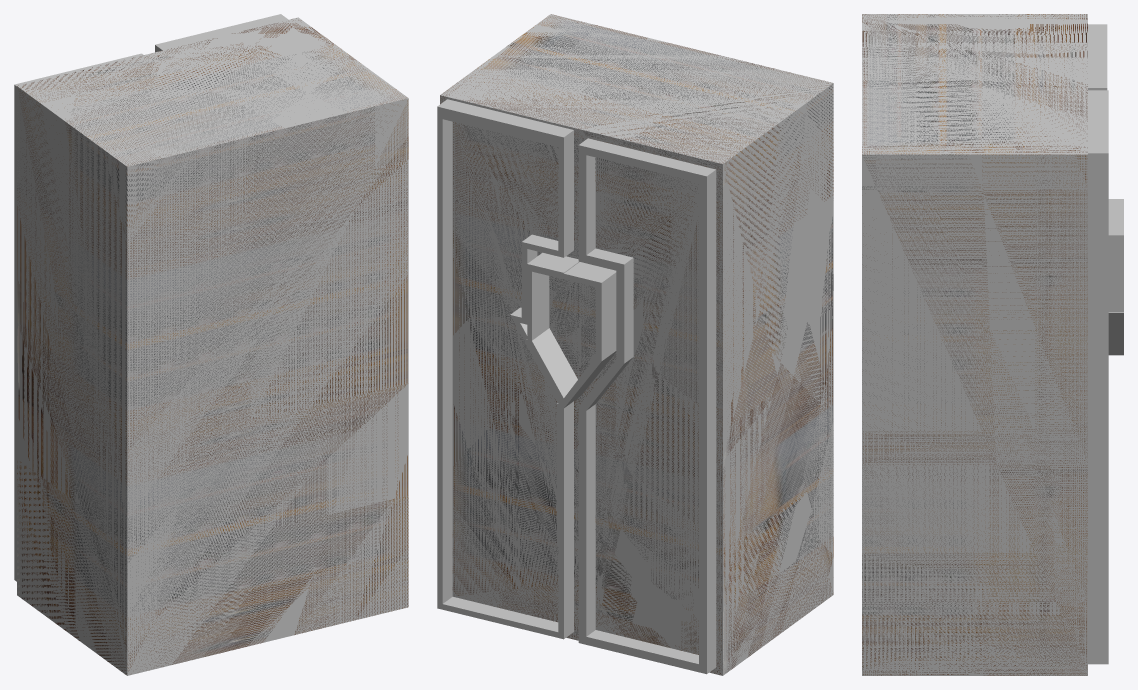
3 renders of one model, left to right at view 1: azimuth 30°, elevation 25°; view 2: azimuth 150°, elevation 25°; view 3: azimuth 270°, elevation 25°, orthographic. The views are drawn at different scales.
Visible parts, largest first — view 1: mesh1_mesh1-geometry; view 2: mesh1_mesh1-geometry; view 3: mesh1_mesh1-geometry.
Boxes of the visible parts, bbox=[...] form: mesh1_mesh1-geometry: bbox=[14, 14, 408, 675]; mesh1_mesh1-geometry: bbox=[437, 14, 833, 675]; mesh1_mesh1-geometry: bbox=[862, 14, 1123, 675].
Bounding box in the file's own units: 0.4659 × 0.8053 × 0.3666.
